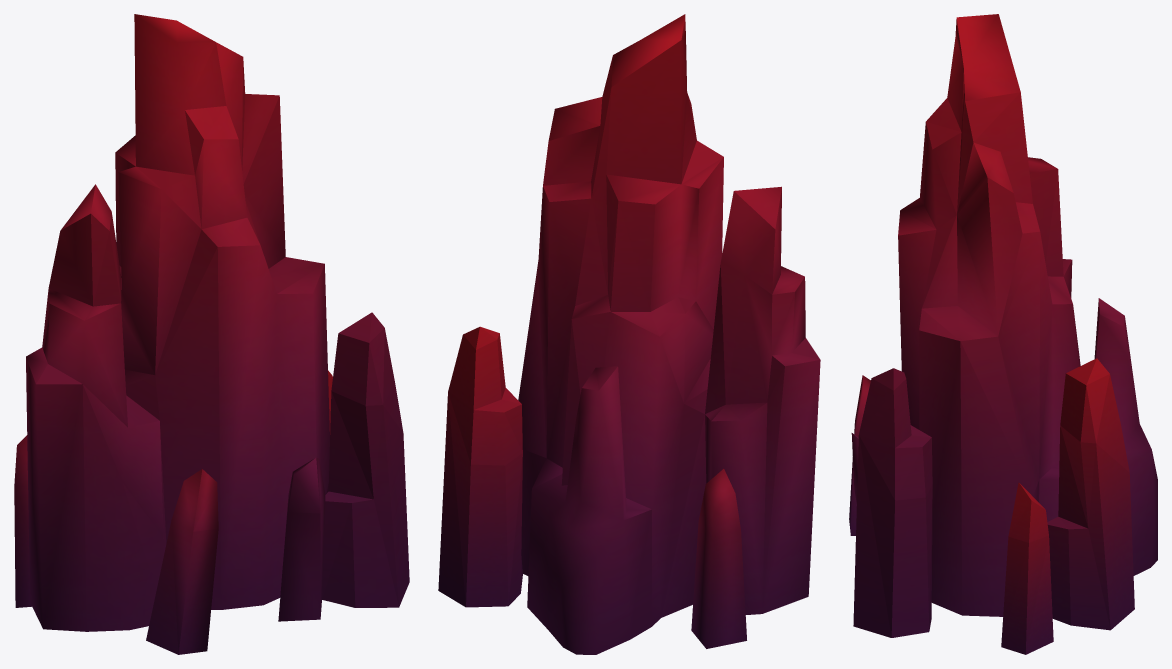
Rendered from ZLP_Crystalk_B_1.FBX.
The picture shows the model from 3 angles, left to right: view 1: azimuth 30°, elevation 25°; view 2: azimuth 150°, elevation 25°; view 3: azimuth 270°, elevation 25°; orthographic projection. The views are drawn at different scales.
Parts seen in each view (by area): view 1: ZLP_Crystalk_B_1; view 2: ZLP_Crystalk_B_1; view 3: ZLP_Crystalk_B_1.
Boxes of the visible parts, x1,y1,x2,y2 form: ZLP_Crystalk_B_1: (14,14,409,654); ZLP_Crystalk_B_1: (438,14,820,654); ZLP_Crystalk_B_1: (849,14,1157,654).
Size of the model in its own units: 245 by 390 by 201.
